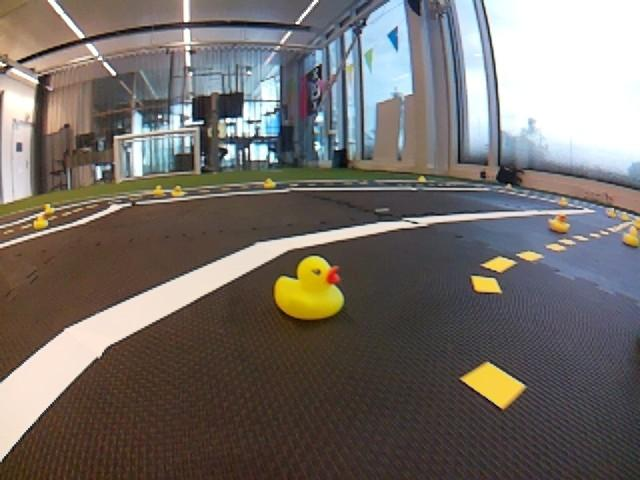Duckies: (273, 257, 344, 321), (550, 213, 570, 231), (624, 226, 640, 248), (32, 213, 50, 229), (171, 184, 187, 198), (263, 178, 278, 189), (153, 185, 166, 197), (42, 202, 56, 213), (620, 210, 630, 222), (558, 197, 570, 206), (608, 209, 617, 219), (634, 217, 640, 229), (505, 183, 513, 191), (417, 177, 426, 182)
